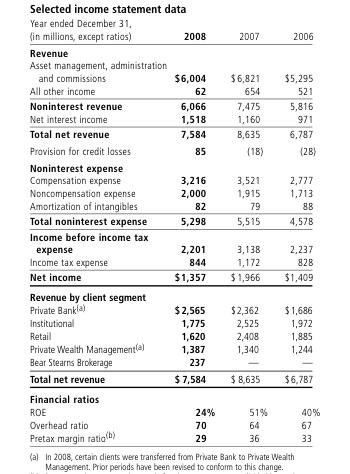table: (28, 29, 319, 443)
table column: (28, 29, 169, 443), (169, 29, 222, 443), (222, 29, 275, 443), (275, 29, 319, 443)
table column header: (28, 29, 319, 43)
table projected row header: (28, 388, 319, 405), (28, 286, 319, 302), (28, 43, 319, 58), (28, 158, 319, 173)
table row: (28, 228, 319, 255), (28, 58, 319, 84), (28, 370, 319, 388), (28, 269, 319, 286), (28, 388, 319, 405), (28, 126, 319, 142), (28, 142, 319, 158), (28, 286, 319, 302), (28, 43, 319, 58), (28, 158, 319, 173), (28, 198, 319, 213), (28, 213, 319, 228), (28, 355, 319, 370), (28, 29, 319, 43), (28, 84, 319, 98), (28, 98, 319, 112), (28, 112, 319, 126), (28, 255, 319, 269), (28, 315, 319, 329), (28, 341, 319, 355), (28, 429, 319, 443), (28, 173, 319, 186), (28, 302, 319, 315), (28, 186, 319, 198), (28, 329, 319, 341), (28, 405, 319, 417), (28, 417, 319, 429)
